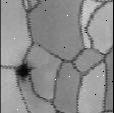good_void: (15, 62, 38, 80)
